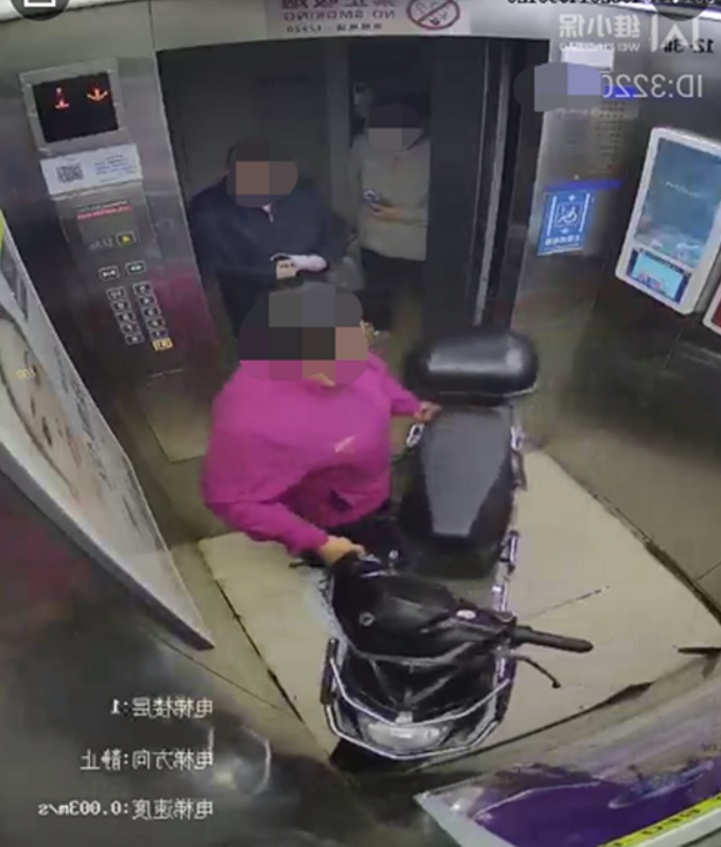ebike: (322, 323, 551, 782)
person: (210, 301, 409, 580)
